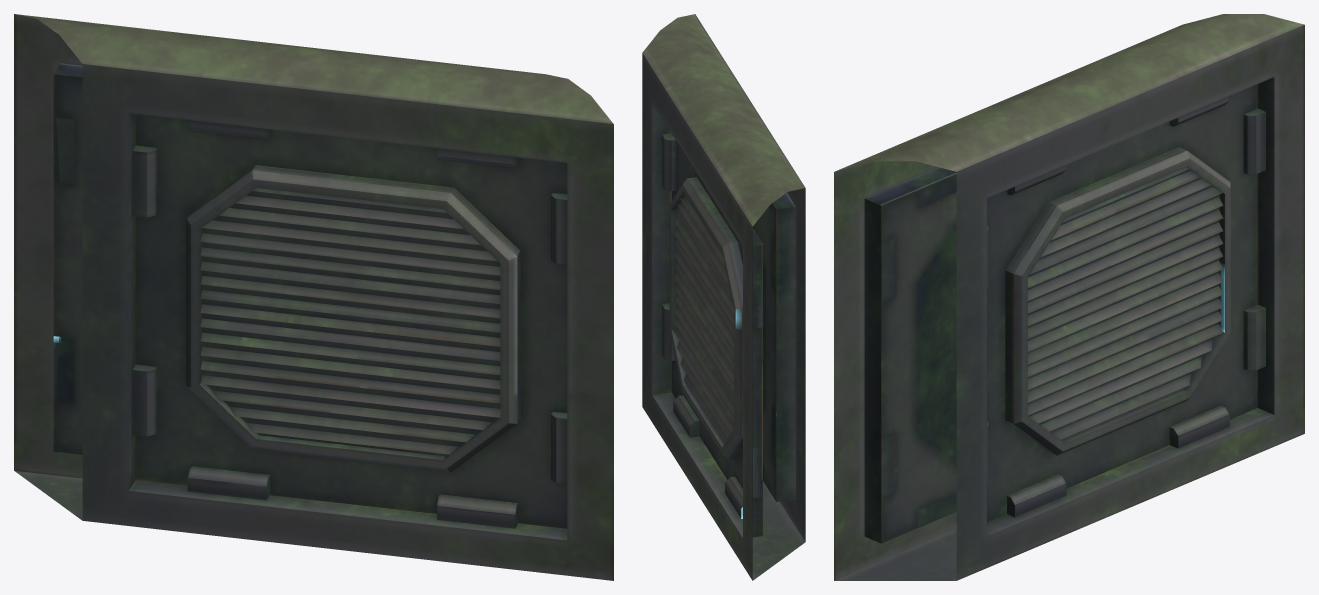
The model's file is ParedDiagonalGrande.fbx.
3 views of the same model, side by side, from view 1: azimuth 30°, elevation 25°; view 2: azimuth 150°, elevation 25°; view 3: azimuth 270°, elevation 25° (orthographic). The views are drawn at different scales.
Visible parts, largest first — view 1: Wall.012; view 2: Wall.012; view 3: Wall.012.
Boxes of the visible parts, box(x1,y1,x2,y2) form: Wall.012: box(14, 14, 613, 580); Wall.012: box(642, 14, 805, 580); Wall.012: box(834, 14, 1304, 580).
Size of the model in its own units: 4 by 5.32 by 5.41.
